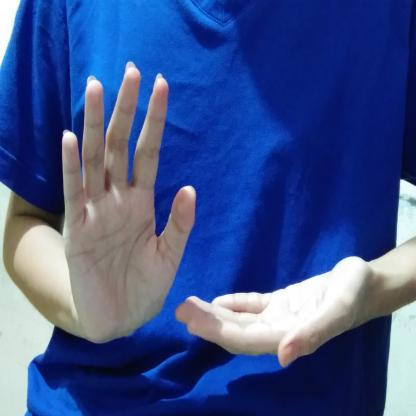hello: (53, 57, 377, 374)
